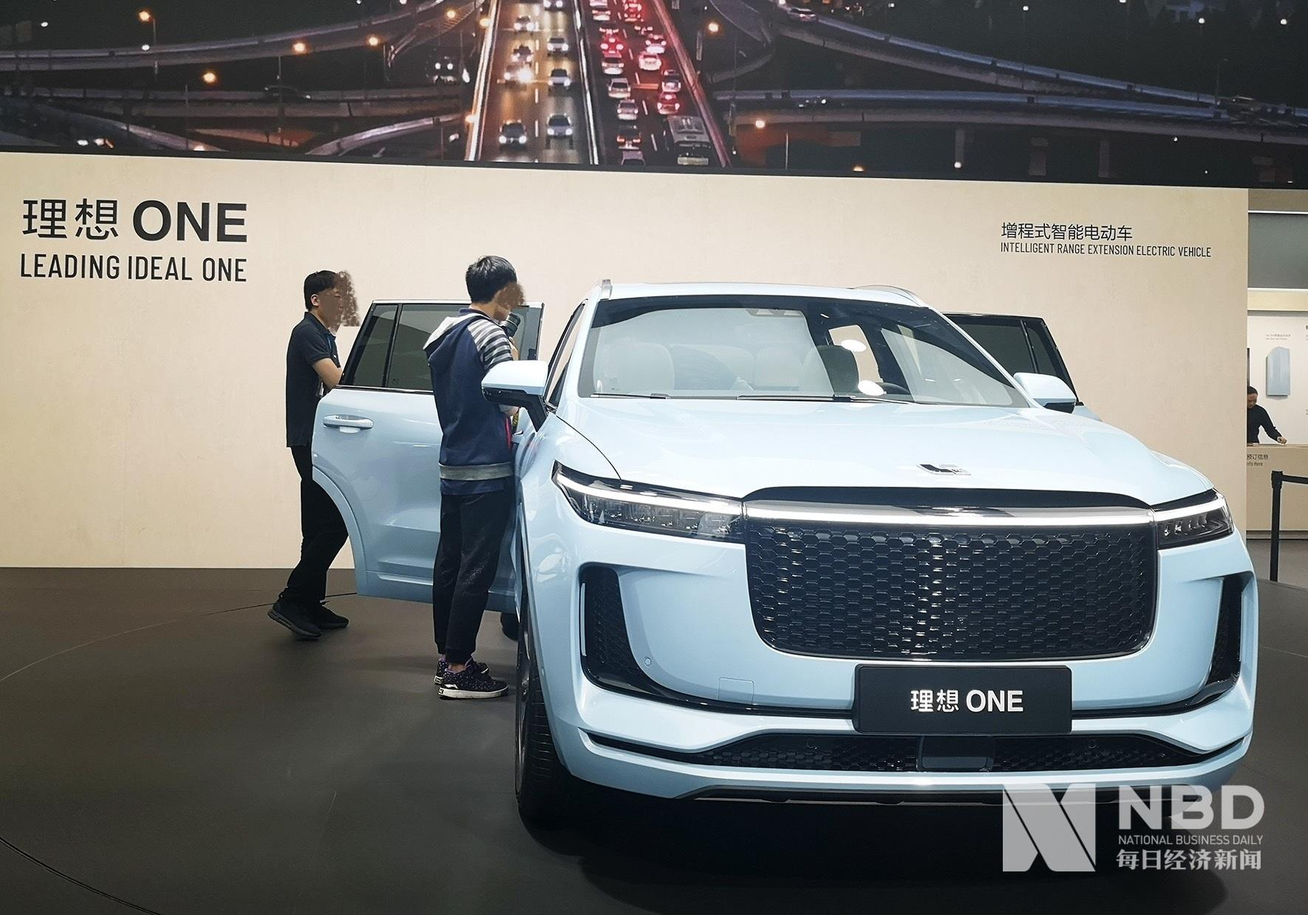Li Auto: (916, 462, 972, 477)
